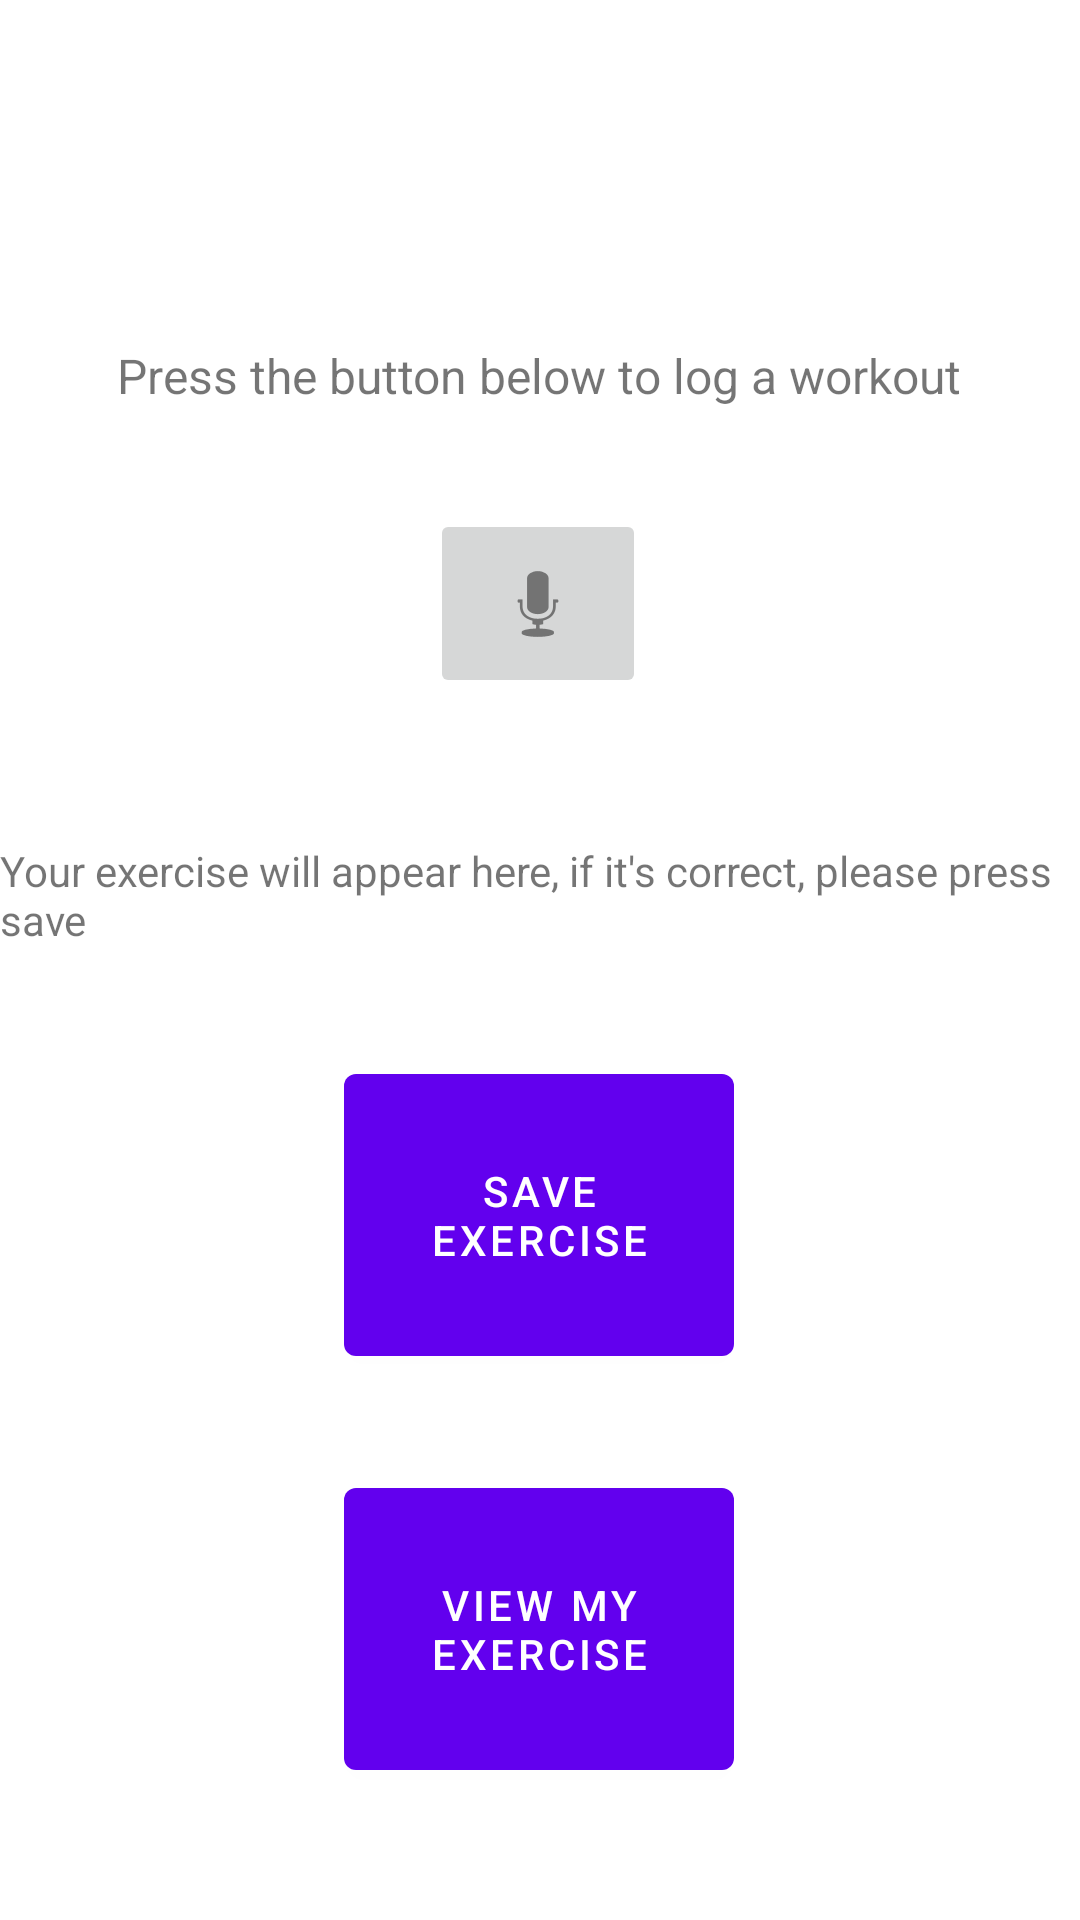

Icon bounding boxes for this 1080 × 1920 phone screenshot, format (x1, y1, x2, y2):
speak now: (442, 527, 634, 680)
